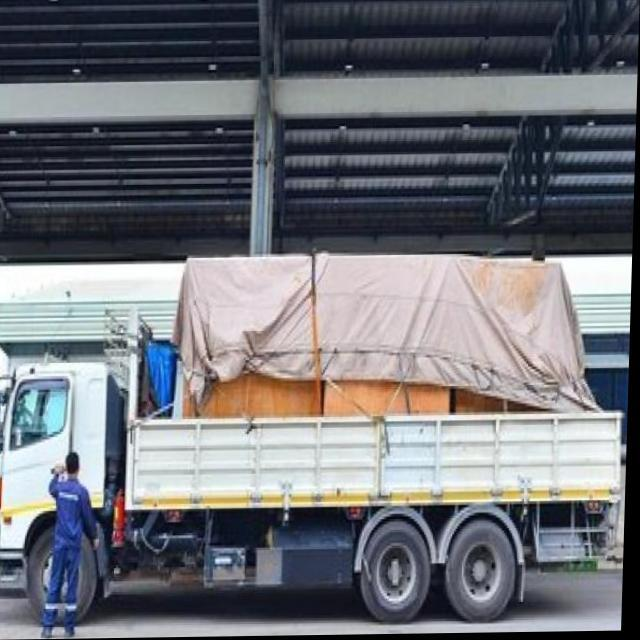covered: (158, 256, 578, 618)
